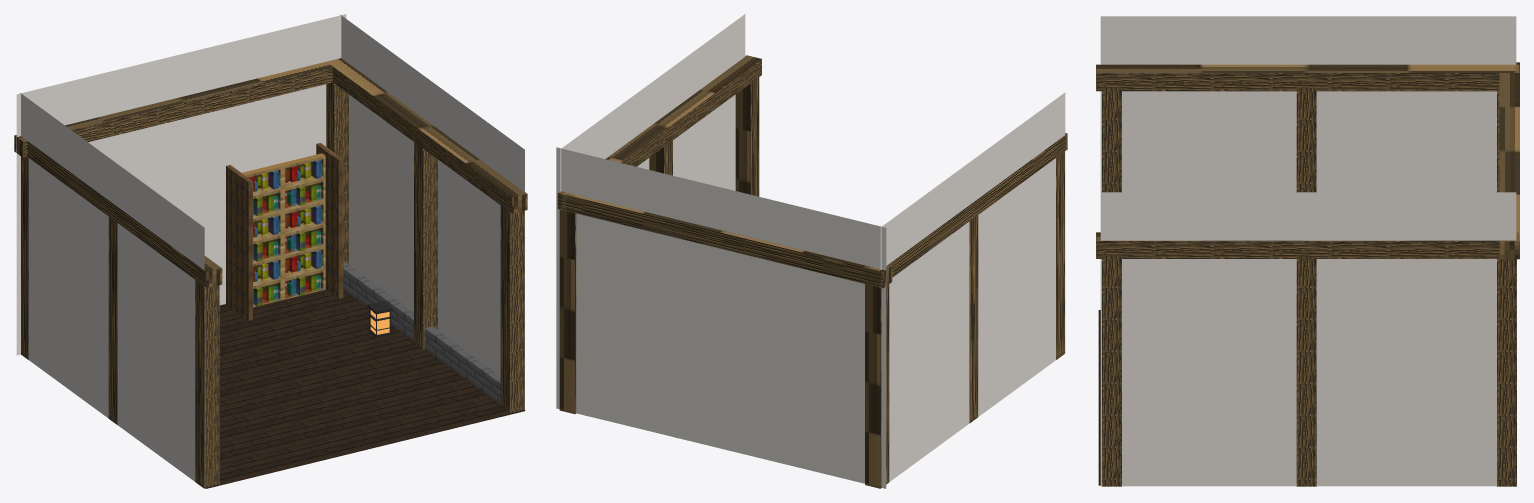
Rendered from background.glb.
3 views of the same model, side by side, from view 1: azimuth 30°, elevation 25°; view 2: azimuth 150°, elevation 25°; view 3: azimuth 270°, elevation 25° (orthographic). The views are drawn at different scales.
Parts seen in each view (by area): view 1: fa2b83068c33fce69f50ee7c98de0ffb; view 2: fa2b83068c33fce69f50ee7c98de0ffb; view 3: fa2b83068c33fce69f50ee7c98de0ffb.
Part boxes in pixels (left/top/right/bottom): fa2b83068c33fce69f50ee7c98de0ffb: left=14, top=14, right=527, bottom=488; fa2b83068c33fce69f50ee7c98de0ffb: left=556, top=14, right=1067, bottom=488; fa2b83068c33fce69f50ee7c98de0ffb: left=1096, top=16, right=1519, bottom=486.
Bounding box in the file's own units: 17.2 × 13.07 × 17.01.
32 materials, 23 textured.
